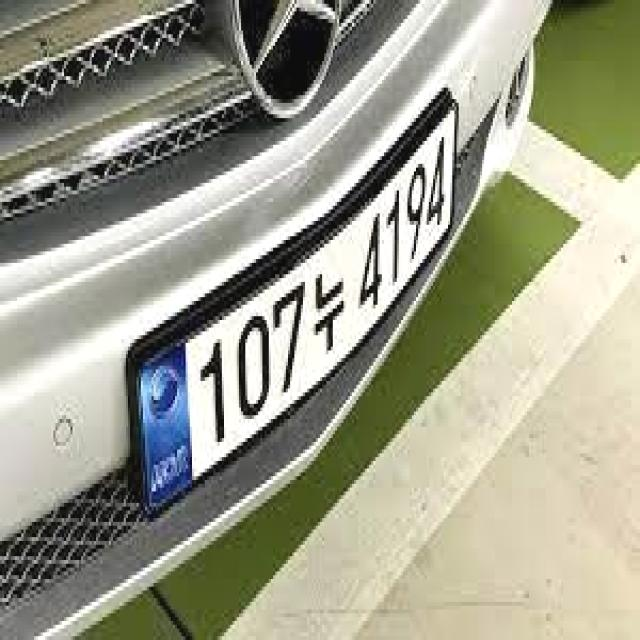illegal_plate: (120, 93, 466, 496)
